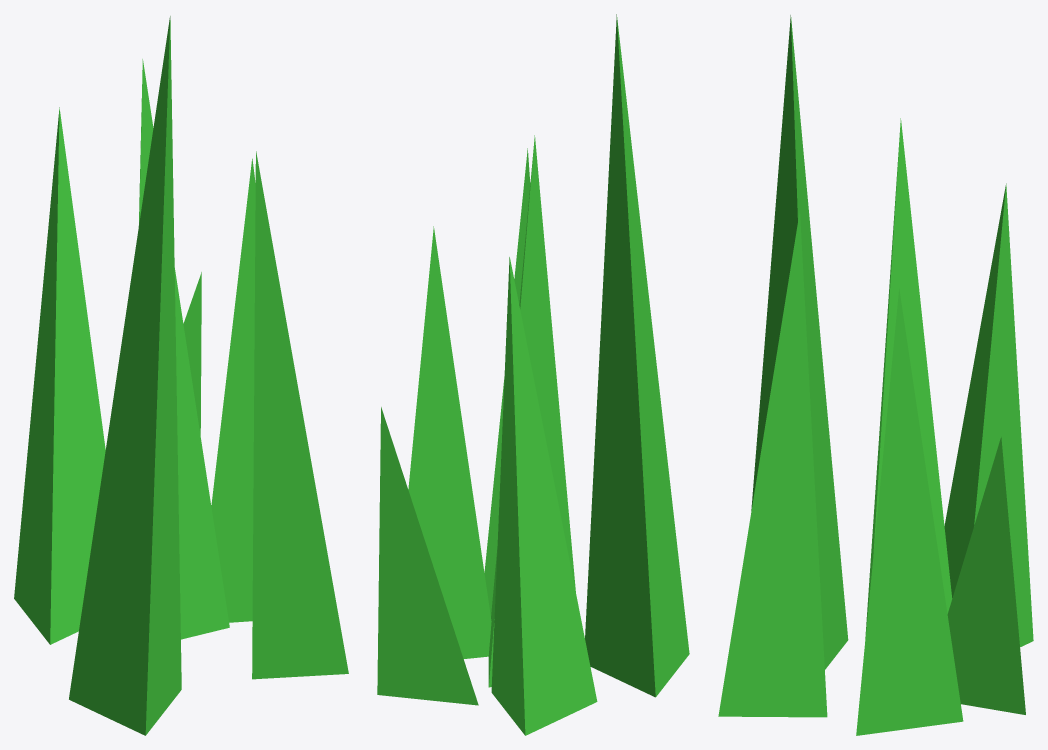
File: grass01.glb
3 renders of one model, left to right at view 1: azimuth 30°, elevation 25°; view 2: azimuth 150°, elevation 25°; view 3: azimuth 270°, elevation 25°, orthographic. The views are drawn at different scales.
Parts seen in each view (by area): view 1: Cone; view 2: Cone; view 3: Cone.
Part boxes in pixels (x1,y1,x2,y2): Cone: (14, 16, 348, 735); Cone: (377, 14, 689, 735); Cone: (718, 15, 1033, 735).
Size of the model in its own units: 4.24 by 11.43 by 4.95.
